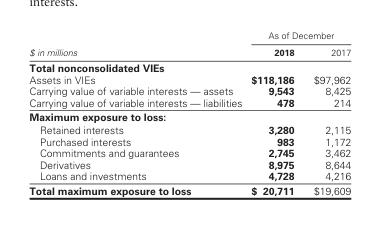table: (28, 29, 350, 196)
table column: (28, 29, 245, 196), (245, 29, 303, 196), (303, 29, 350, 196)
table column header: (28, 29, 350, 59)
table projected row header: (28, 59, 350, 73), (28, 109, 350, 122)
table row: (28, 43, 350, 59), (28, 29, 350, 43), (28, 59, 350, 73), (28, 182, 350, 196), (28, 96, 350, 109), (28, 109, 350, 122), (28, 122, 350, 135), (28, 169, 350, 182), (28, 84, 350, 96), (28, 146, 350, 158), (28, 73, 350, 84), (28, 135, 350, 146), (28, 158, 350, 169)
table spanning cell: (28, 29, 245, 59), (245, 29, 350, 43)
